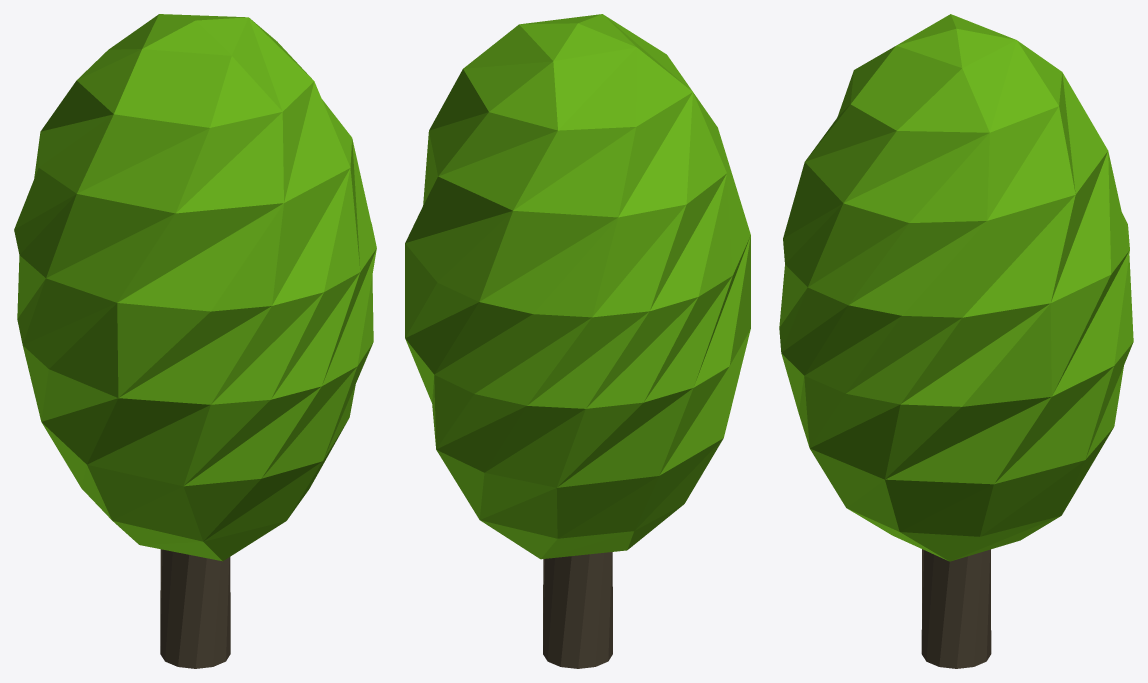
File: texturetest.dae
The picture shows the model from 3 angles, left to right: view 1: azimuth 30°, elevation 25°; view 2: azimuth 150°, elevation 25°; view 3: azimuth 270°, elevation 25°; orthographic projection.
Visible parts, largest first — view 1: Kugel, Zylinder; view 2: Kugel, Zylinder; view 3: Kugel, Zylinder.
Part boxes in pixels (x1=…): Kugel: x1=14, y1=14, x2=376, y2=561; Zylinder: x1=160, y1=549, x2=230, y2=668; Kugel: x1=405, y1=14, x2=750, y2=559; Zylinder: x1=543, y1=552, x2=612, y2=668; Kugel: x1=779, y1=14, x2=1133, y2=561; Zylinder: x1=921, y1=549, x2=991, y2=668.
Size of the model in its own units: 52.12 by 103 by 53.09.
